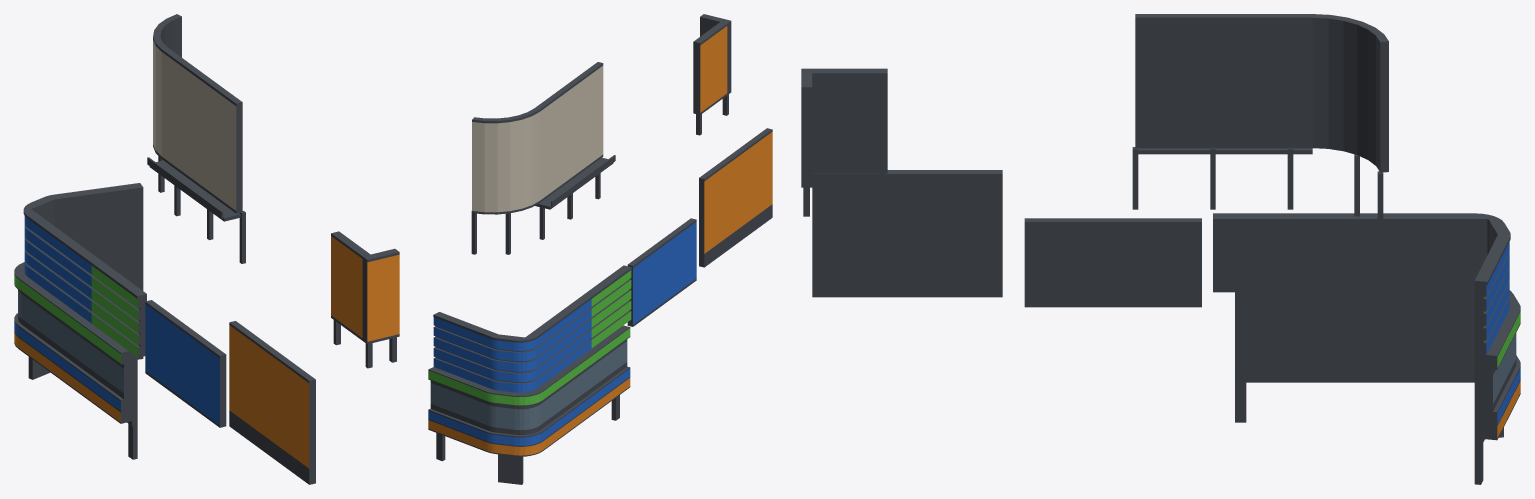
Rendered from nyc-1500-broadway-signs.glb.
3 renders of one model, left to right at view 1: azimuth 30°, elevation 25°; view 2: azimuth 150°, elevation 25°; view 3: azimuth 270°, elevation 25°, orthographic. The views are drawn at different scales.
Visible parts, largest first — view 1: 1500 Broadway signs; view 2: 1500 Broadway signs; view 3: 1500 Broadway signs.
Boxes of the visible parts, x1,y1,x2,y2 form: 1500 Broadway signs: (14,14,399,484); 1500 Broadway signs: (428,14,772,484); 1500 Broadway signs: (801,14,1520,484).
Size of the model in its own units: 15.73 by 44 by 65.01.
